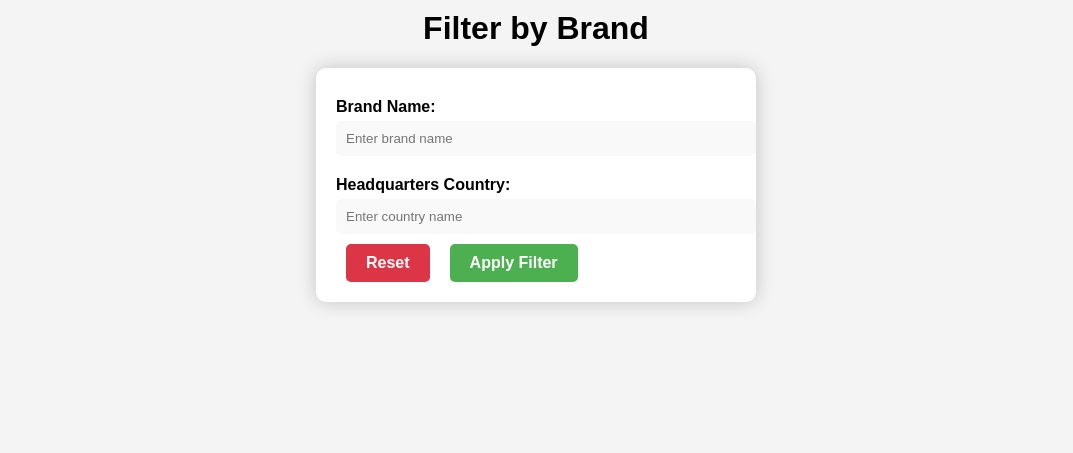
Test case: BrandTab › filters brand instances based on input values
In the field labelled "Brand Name:": x=546, y=139 [336,121,756,156], type "Brand 1"
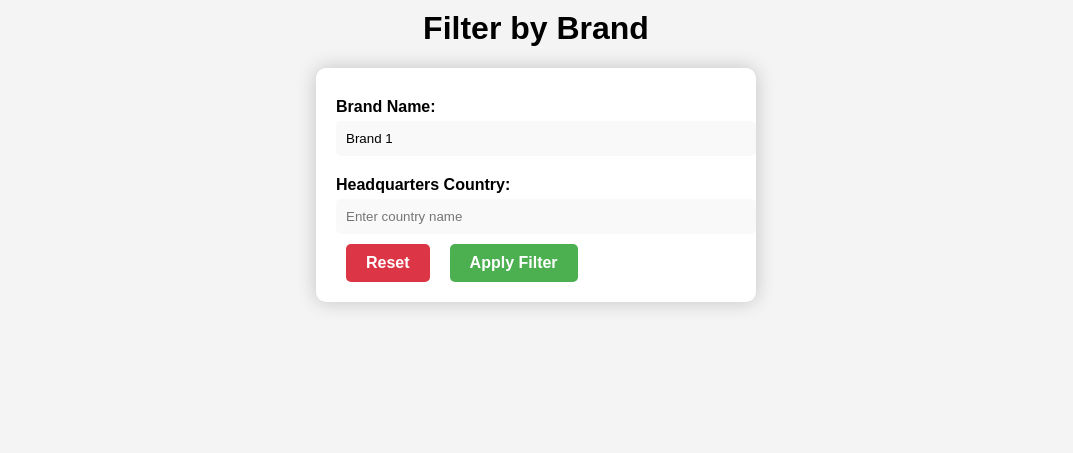
In the field labelled "Headquarters Country:": x=546, y=217 [336,199,756,234], type "Country 1"
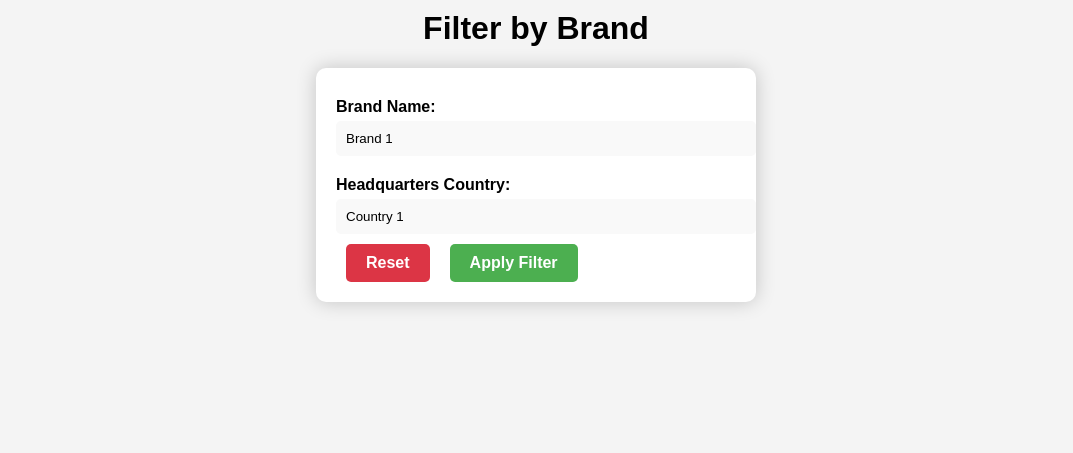
Click the button "Apply Filter": x=514, y=263 [450,244,578,282]
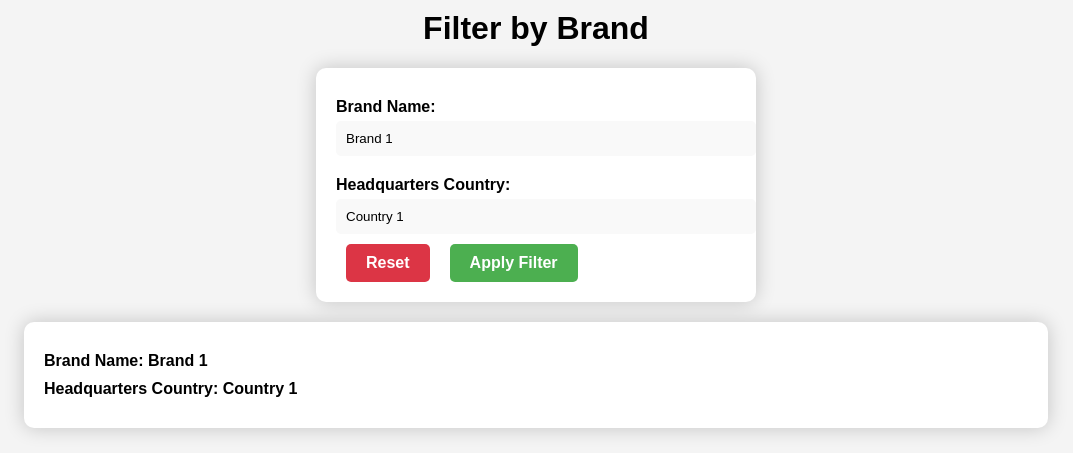
Result: the text "Brand Name: Brand 1" is shown at [44,352,208,369]
